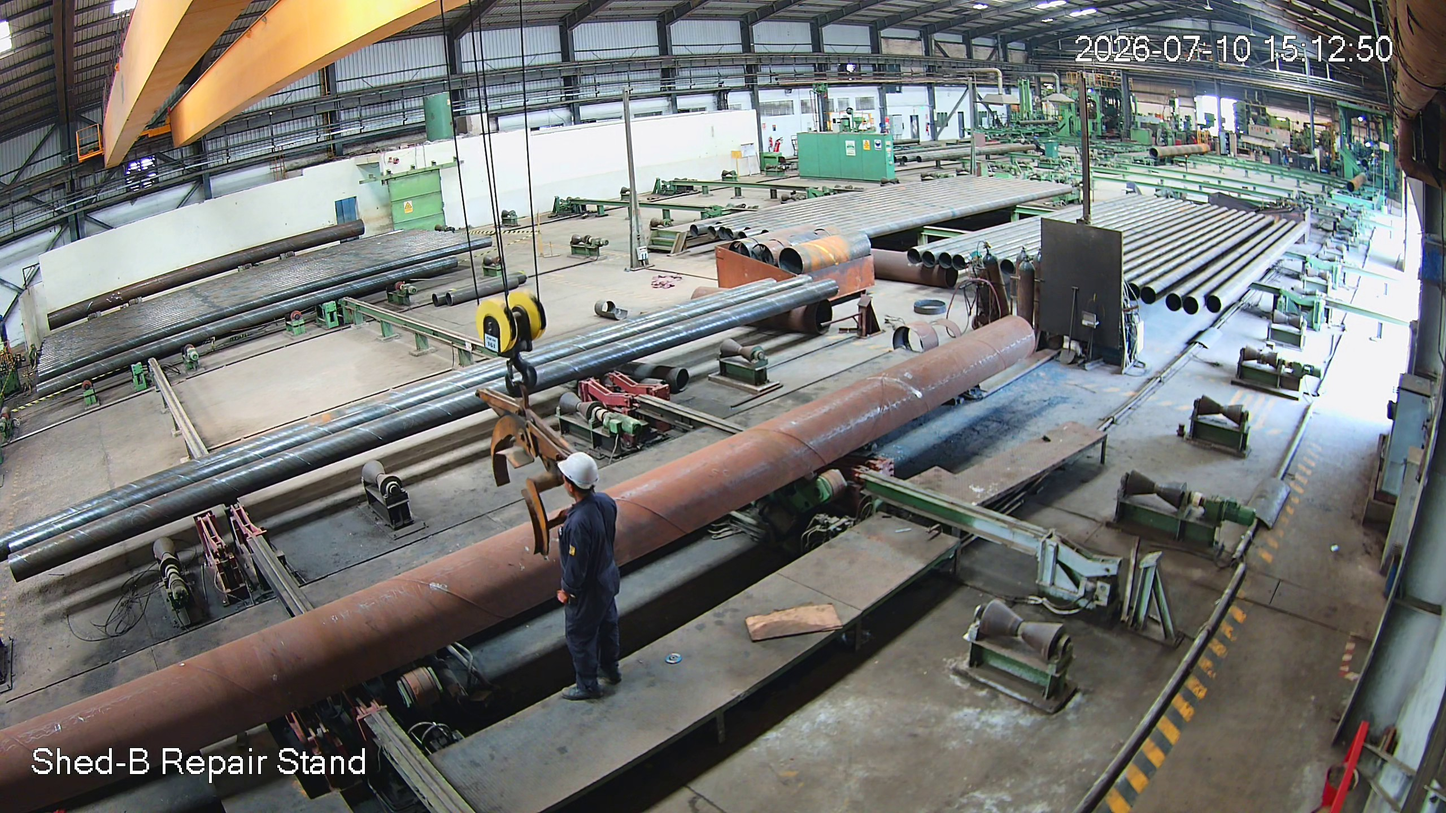Helmet: (552, 447, 608, 521)
Person: (543, 454, 637, 695)
